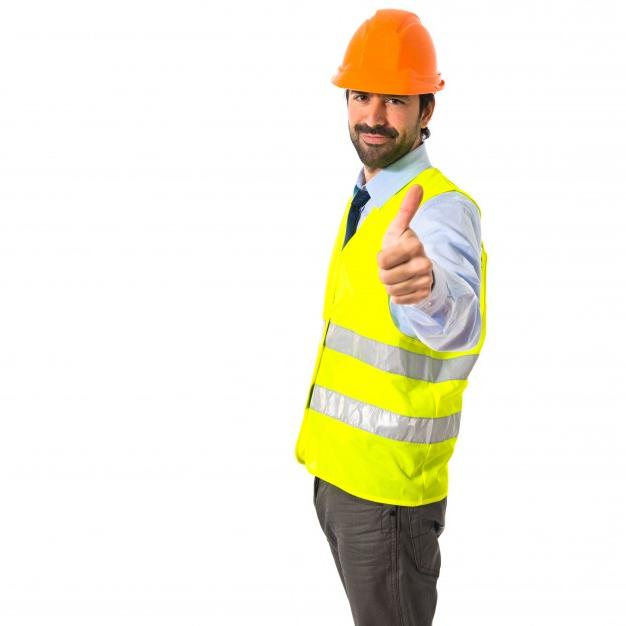thumbsup: (376, 183, 434, 304)
